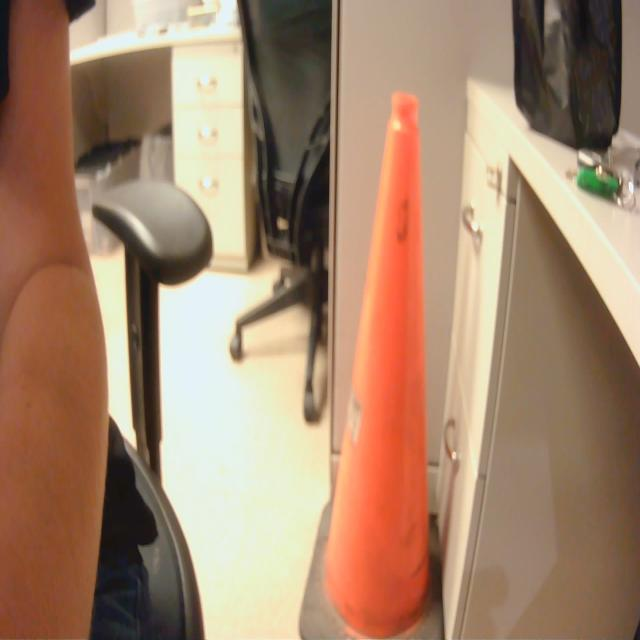traffic cone: (296, 85, 452, 640)
